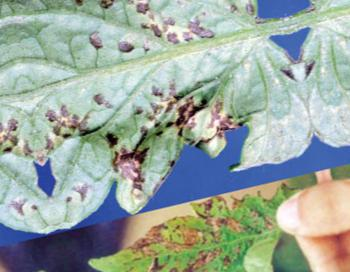Tomato leaf bacterial spot: (6, 0, 322, 230), (76, 173, 332, 272)
